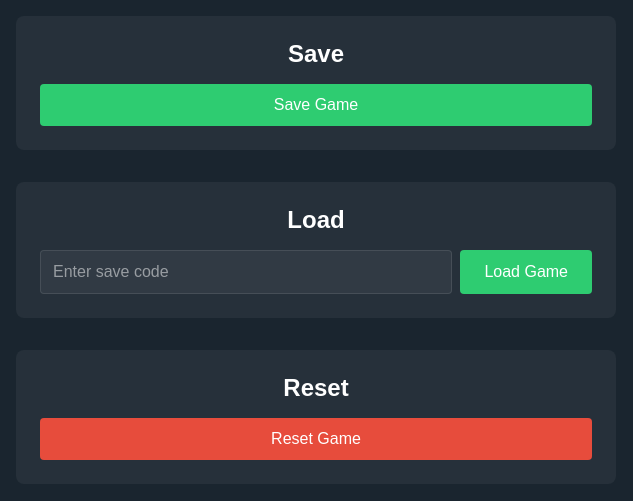
Test case: SaveLoadView › Reset Game › should show confirmation state on first click
Click the button with class "reset-button" at [316, 439], box [40,418,592,460]
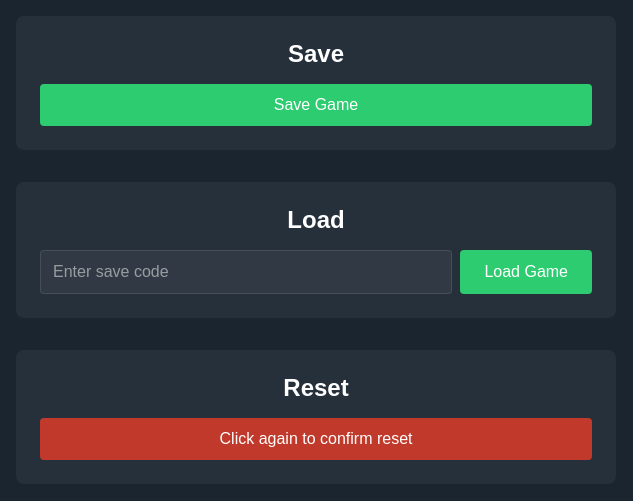
Expected: the button with class "reset-button" reads "Click again to confirm reset", [40,418,592,460]
